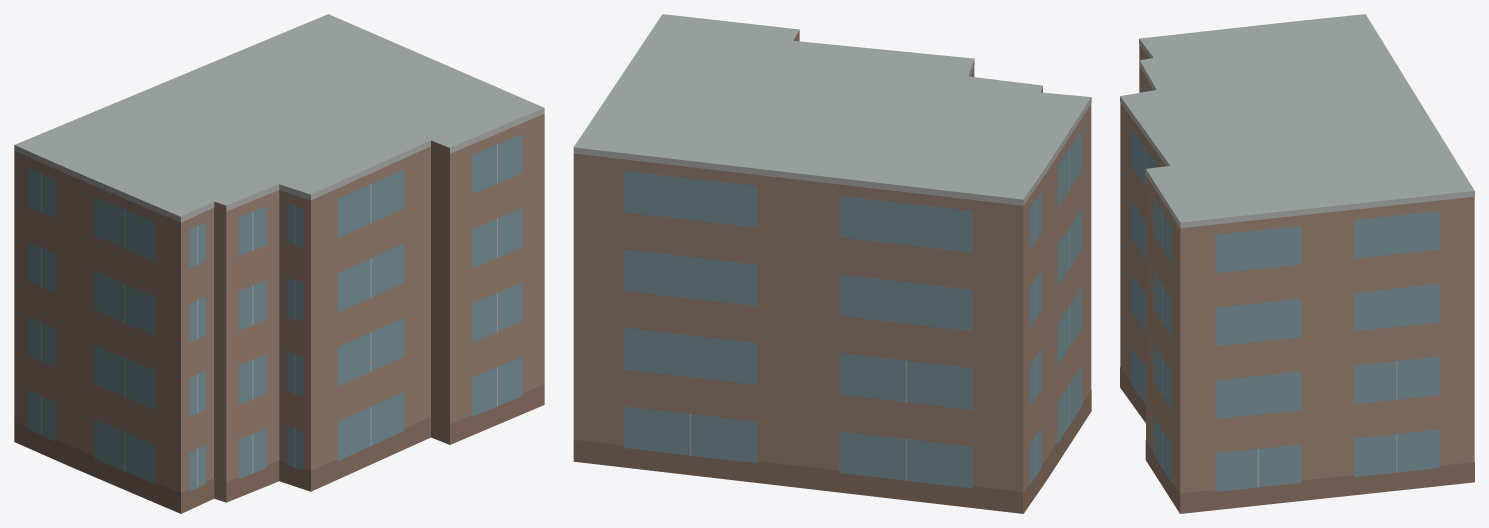
File: survey-upis-32501980.glb
The picture shows the model from 3 angles, left to right: view 1: azimuth 30°, elevation 25°; view 2: azimuth 150°, elevation 25°; view 3: azimuth 270°, elevation 25°; orthographic projection. The views are drawn at different scales.
Parts seen in each view (by area): view 1: survey-upis-32501980.tmp; view 2: survey-upis-32501980.tmp; view 3: survey-upis-32501980.tmp.
Boxes of the visible parts, left/top/right/bottom form: survey-upis-32501980.tmp: left=14, top=14, right=544, bottom=513; survey-upis-32501980.tmp: left=573, top=14, right=1091, bottom=513; survey-upis-32501980.tmp: left=1120, top=14, right=1474, bottom=513.
Size of the model in its own units: 19.05 by 12.4 by 13.69.
